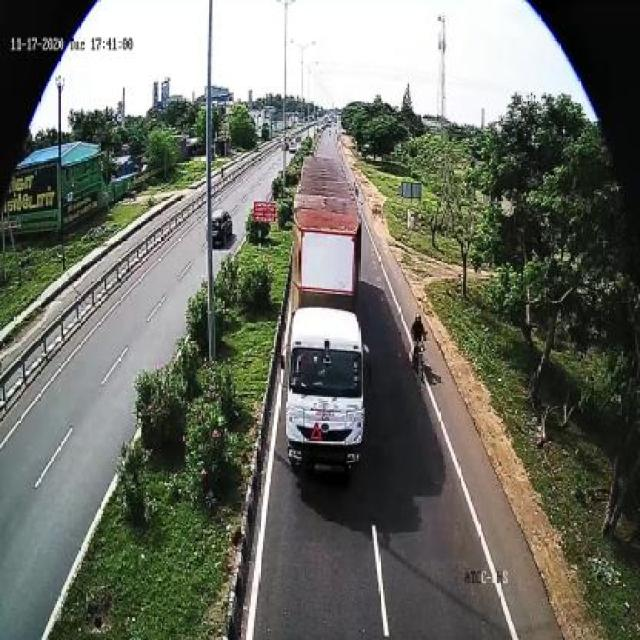car: (206, 204, 239, 253)
